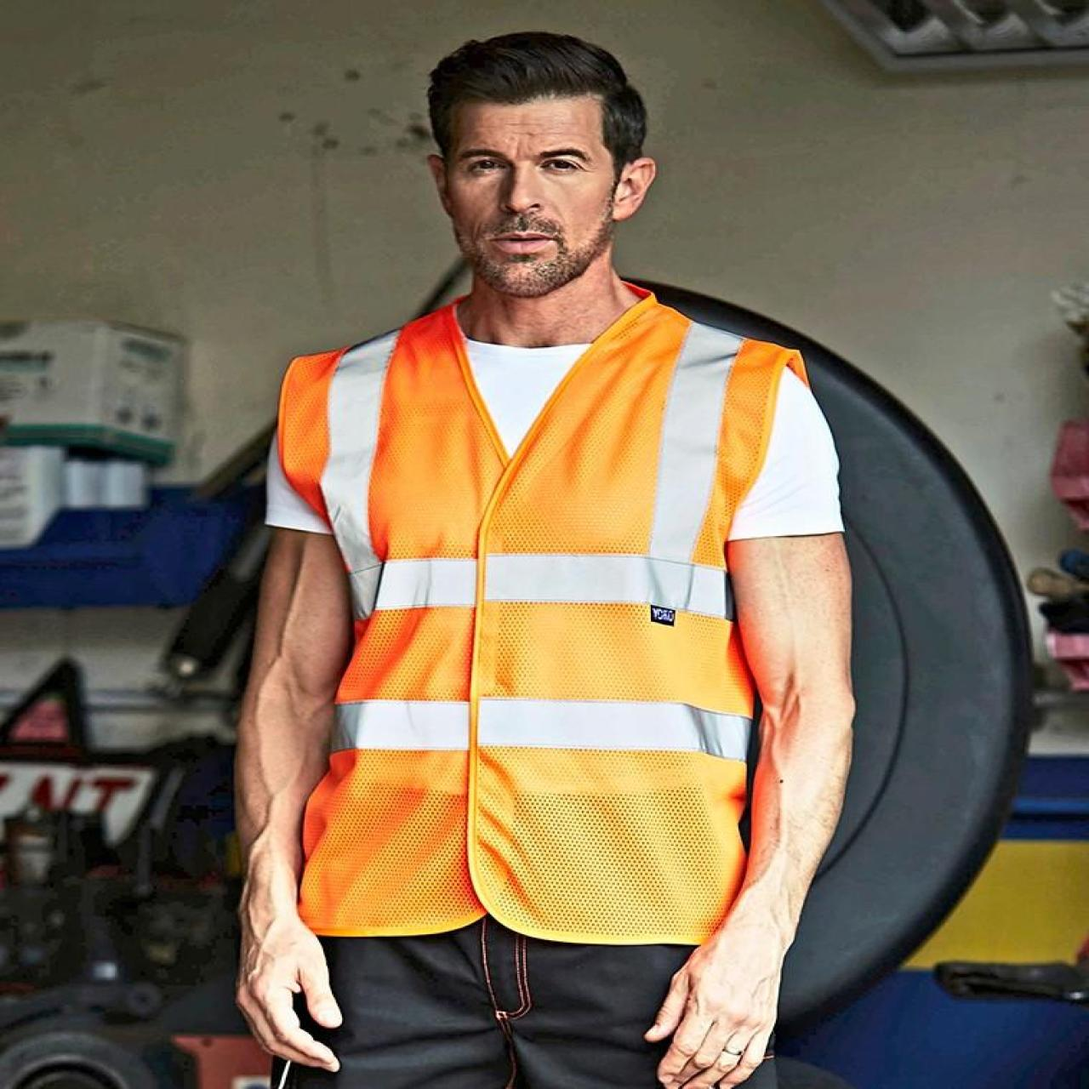Person: (218, 6, 885, 1089)
Safety_Vest: (275, 271, 808, 944)
